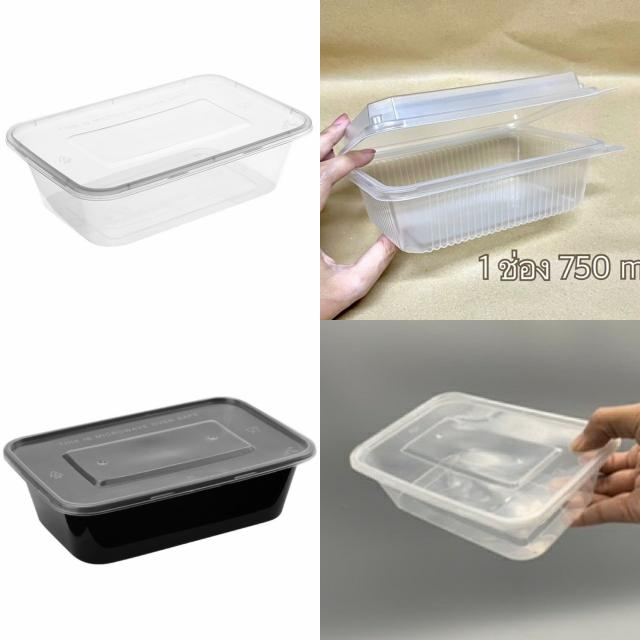Single-Use-Plastic: (6, 75, 312, 246), (4, 398, 314, 563), (341, 72, 622, 252), (350, 392, 618, 560)
